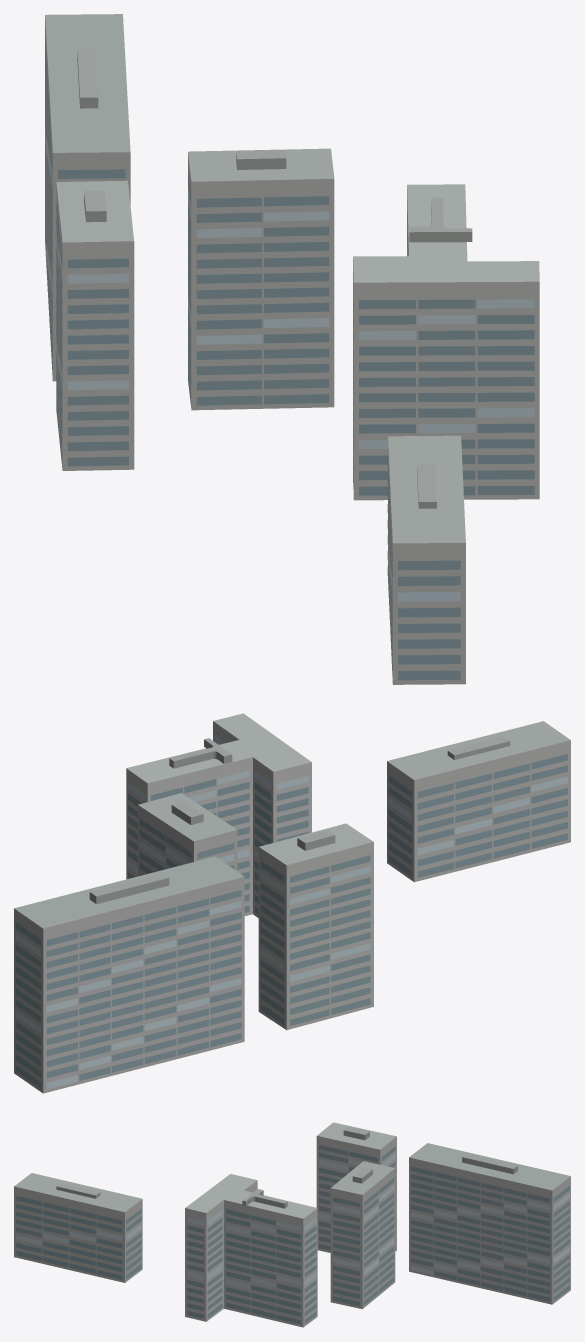
The model's file is apt-a15703005.glb.
The picture shows the model from 3 angles, top to bottom: view 1: azimuth 30°, elevation 25°; view 2: azimuth 150°, elevation 25°; view 3: azimuth 270°, elevation 25°; orthographic projection. The views are drawn at different scales.
Parts seen in each view (by area): view 1: apt-a15703005; view 2: apt-a15703005; view 3: apt-a15703005.
Part boxes in pixels (left/top/right/bottom): apt-a15703005: left=45, top=14, right=539, bottom=684; apt-a15703005: left=14, top=713, right=570, bottom=1093; apt-a15703005: left=14, top=1122, right=570, bottom=1327.
Size of the model in its own units: 68.48 by 42 by 177.
